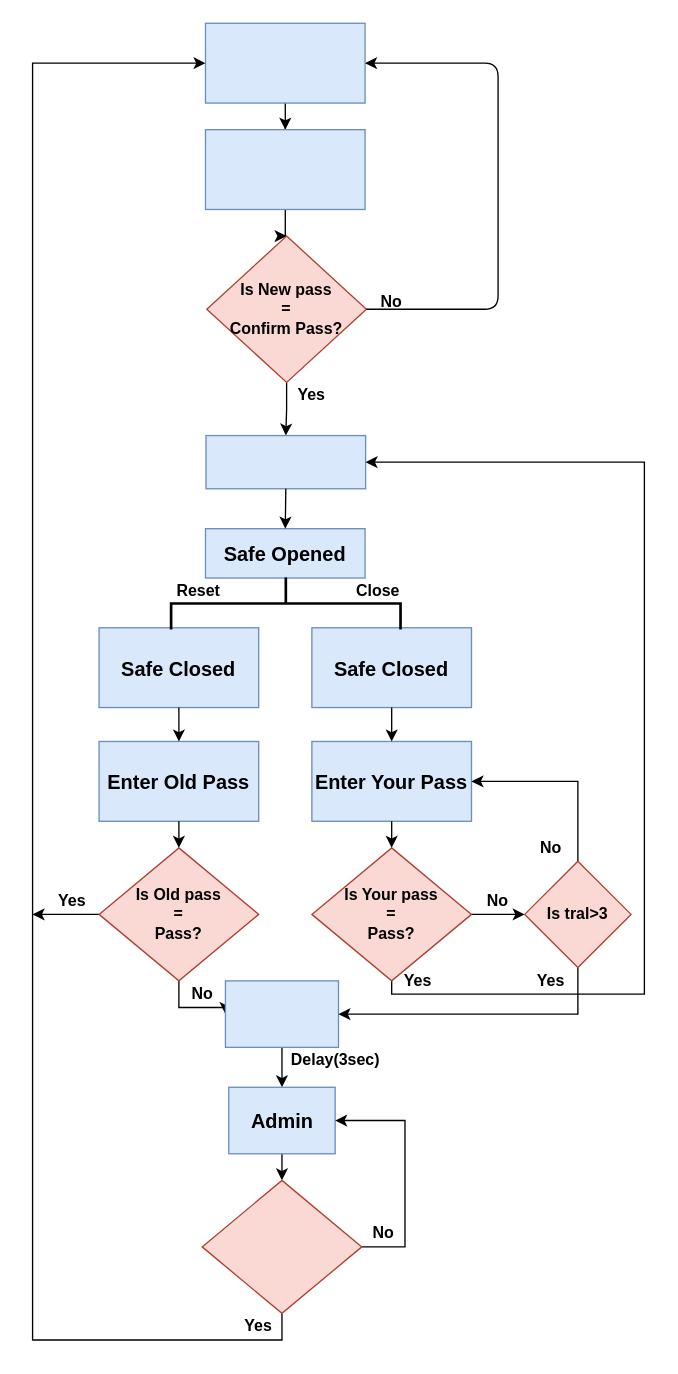
The diagram is 678 pixels wide and 1374 high, and some of its shapes have lost their labels. Each missing label, with the centre of its shape:
"Confirm Pass" goes at [284,168].
"Enter New Pass" goes at [284,62].
"Is Admin = 2022?" goes at [281,1246].
"Welcome ^-^" goes at [285,461].
"انت حرامي" goes at [281,1013].
